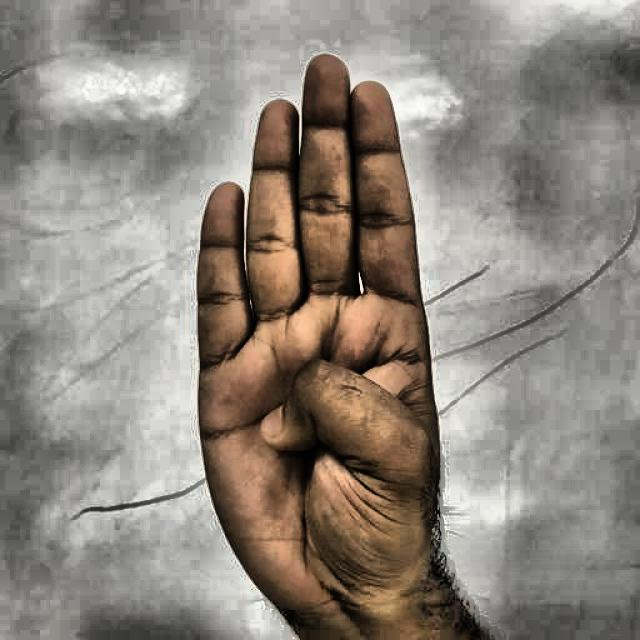Ba: (157, 40, 495, 640)
